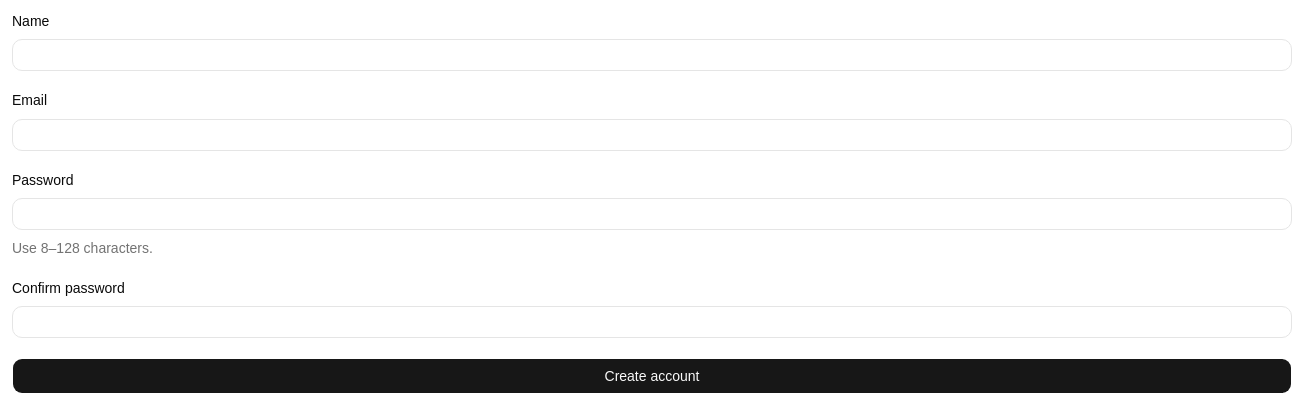
Scenario: authentication forms › prevents duplicate sign-up requests while a submission is pending
Type "Asha Traveler" into the field labelled "Name" at (652, 55), box top-left (12, 39), bottom-right (1292, 71)
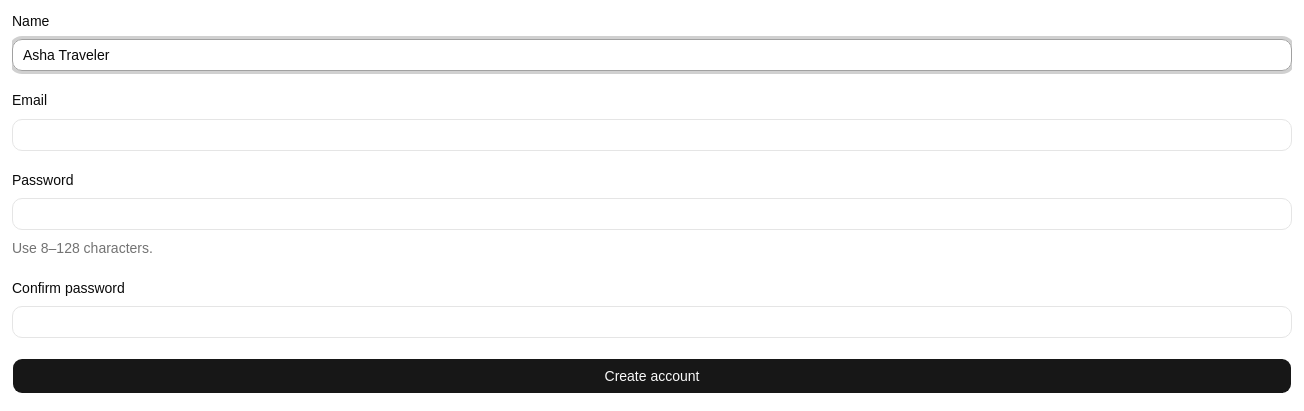
Type "asha@example.com" into the field labelled "Email" at (652, 134), box top-left (12, 118), bottom-right (1292, 150)
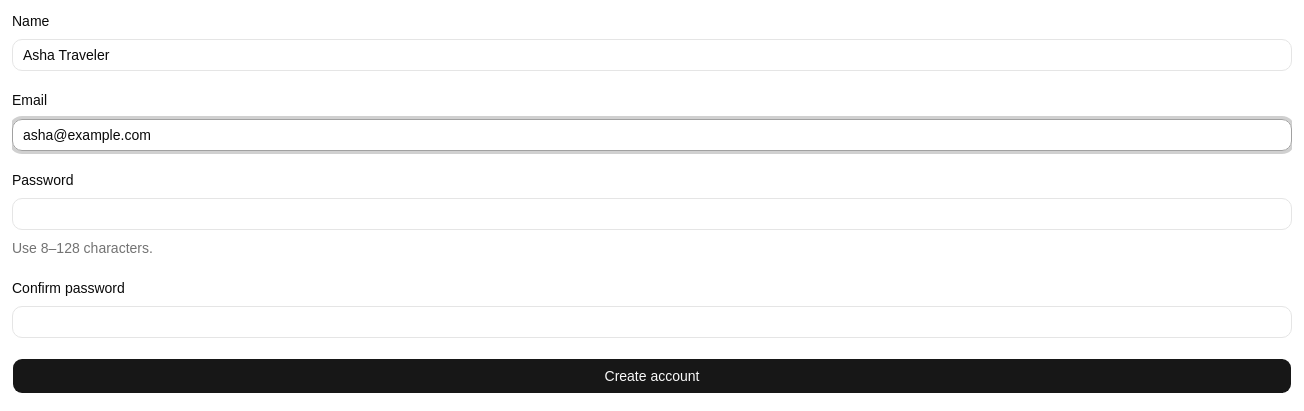
Type "long-enough" into the password field labelled "Password" at (652, 214), box top-left (12, 198), bottom-right (1292, 230)
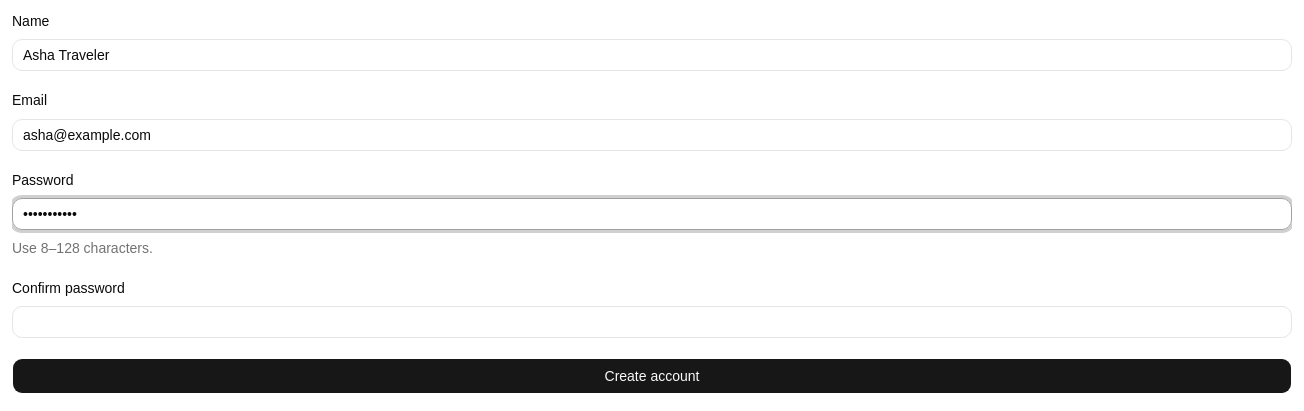
Type "long-enough" into the password field labelled "Confirm password" at (652, 322), box top-left (12, 306), bottom-right (1292, 338)
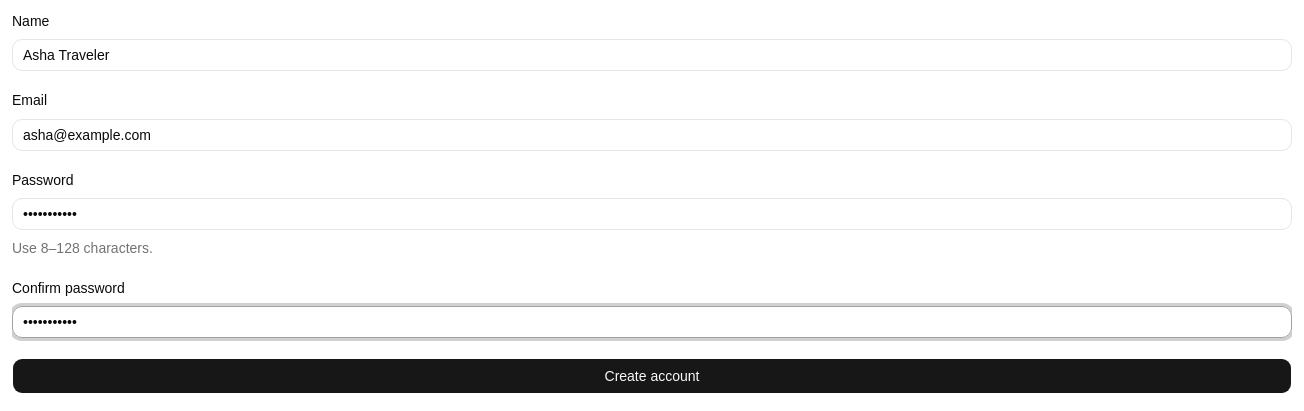
Click the button "Create account" at (652, 376), box top-left (12, 358), bottom-right (1292, 394)
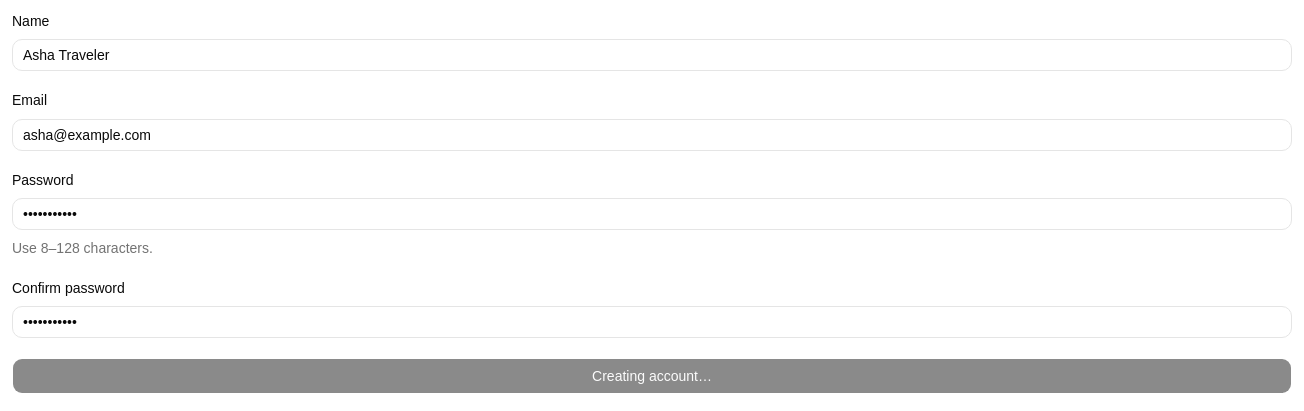
Expected: the button "Creating account…" is disabled
Click the button "Creating account…" at (652, 376), box top-left (12, 358), bottom-right (1292, 394)
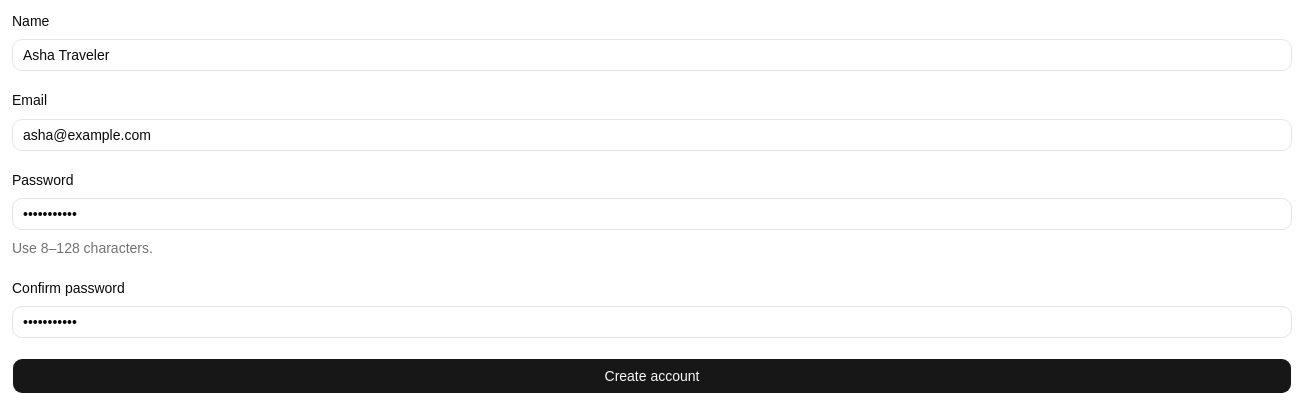
Expected: the button "Create account" is enabled, top-left (12, 358), bottom-right (1292, 394)
